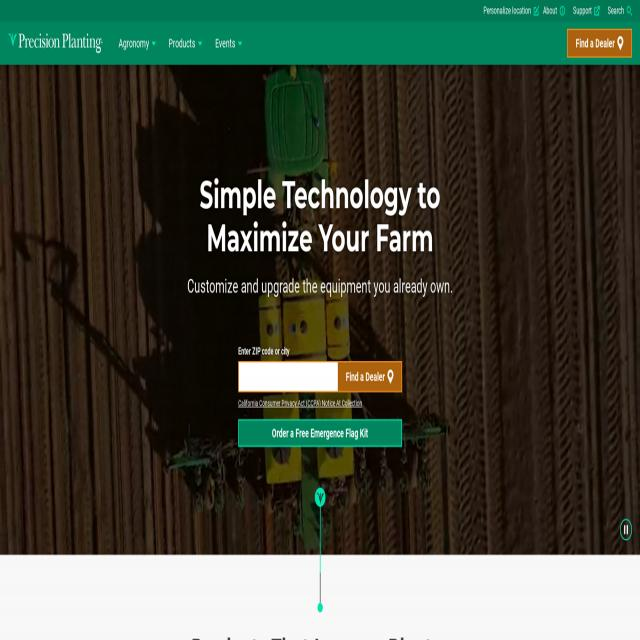button: (238, 419, 402, 447), (337, 361, 402, 391), (568, 29, 632, 57), (18, 33, 102, 53), (621, 519, 631, 540), (315, 488, 325, 507), (8, 33, 16, 53), (559, 6, 565, 16), (594, 6, 600, 16), (626, 6, 632, 16), (534, 6, 539, 16), (152, 37, 156, 49), (198, 37, 202, 49), (238, 37, 242, 49)
field: (238, 362, 338, 391)
